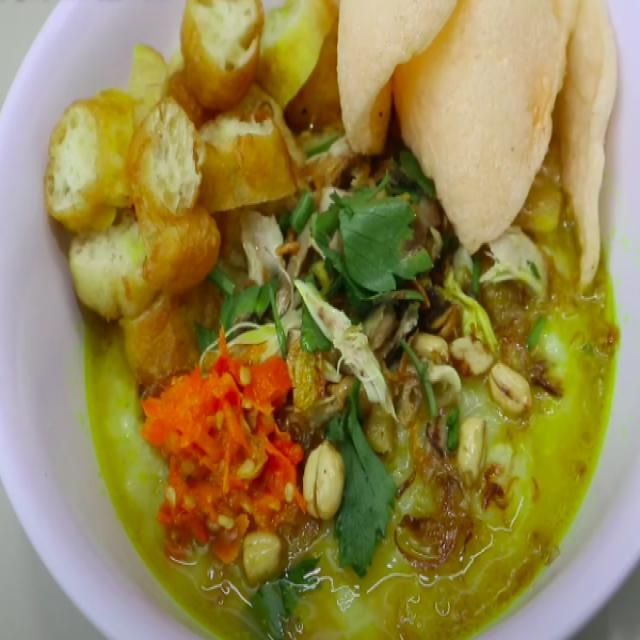bubur ayam: (43, 0, 620, 638)
mangkuk: (0, 0, 639, 640)
sambal: (144, 326, 304, 558)
